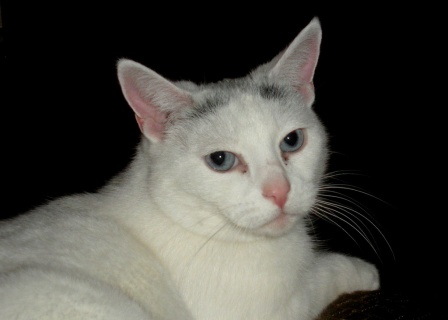Cat: (0, 14, 399, 320)
